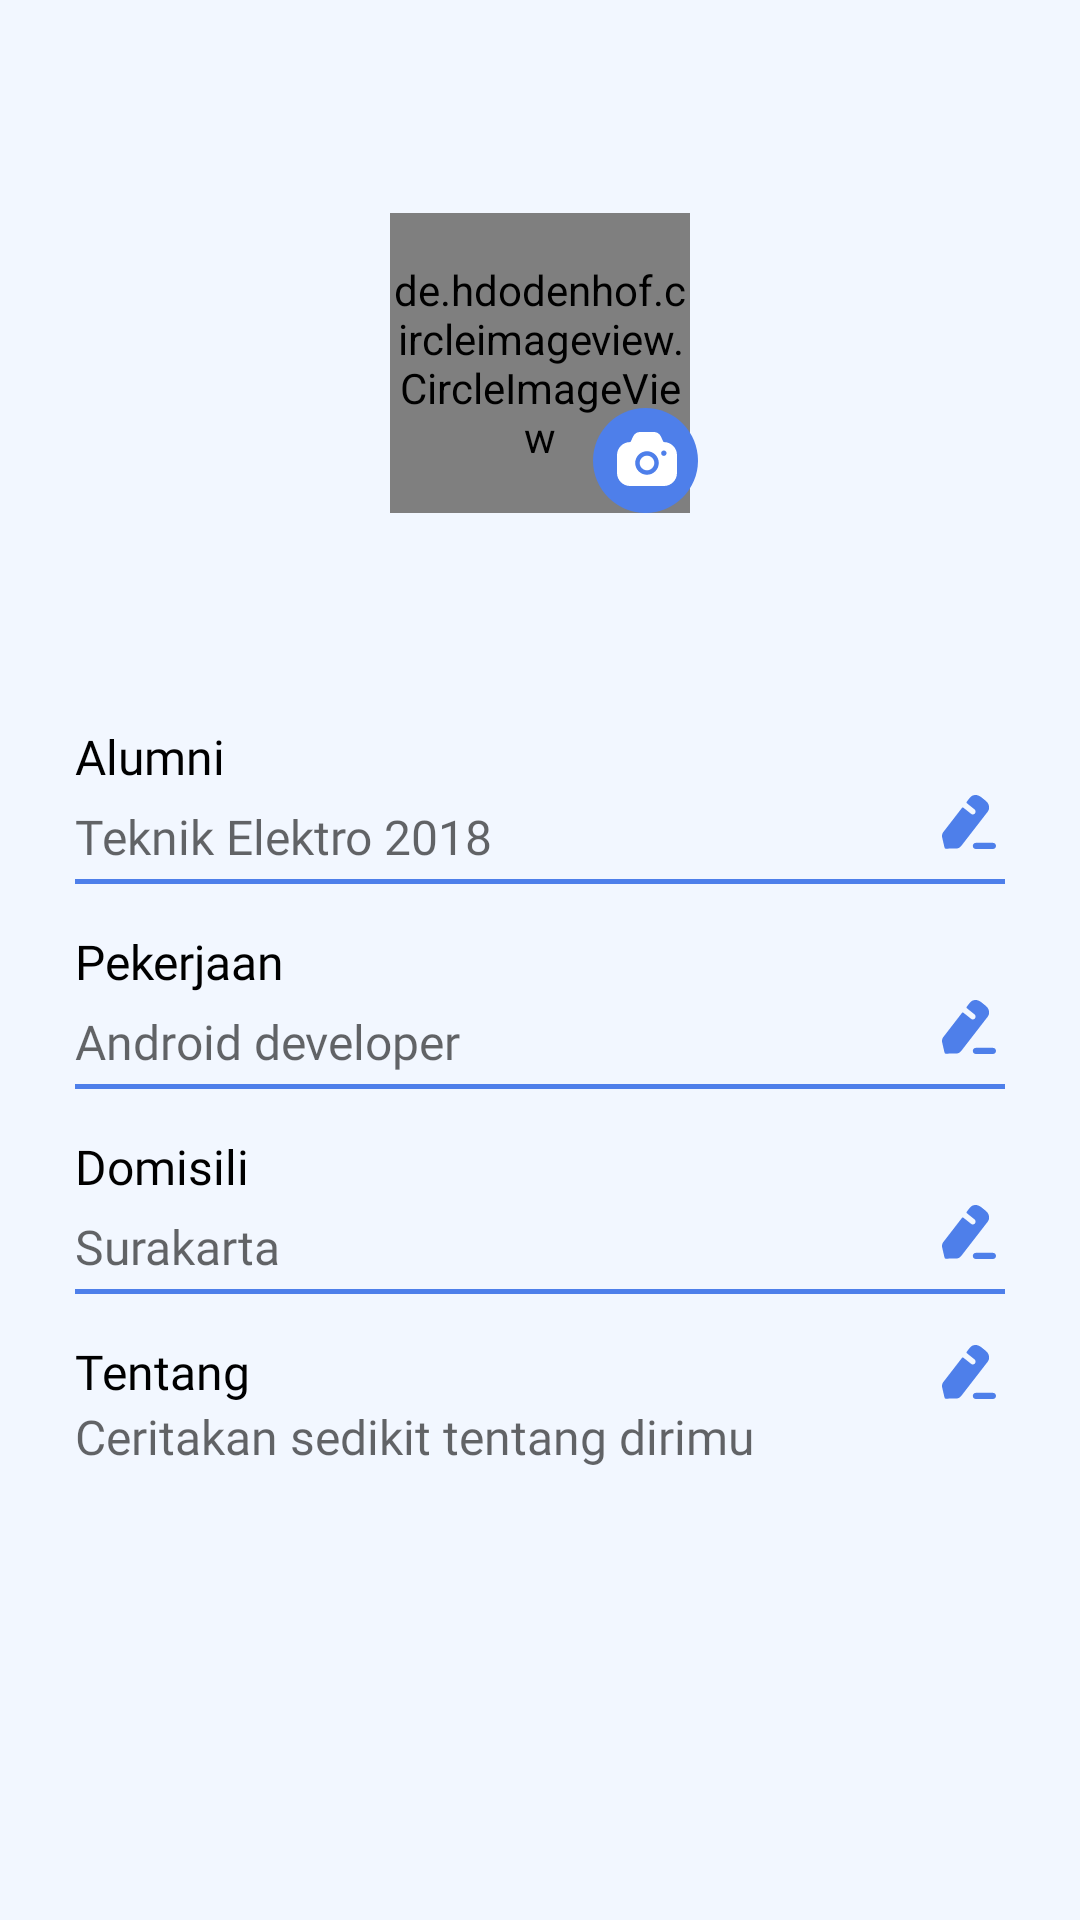

Screen size 1080x1920. Icon name, then its center in pixels as point (x, y):
edit: point (969, 822), point (969, 1027), point (969, 1232), point (969, 1372)
